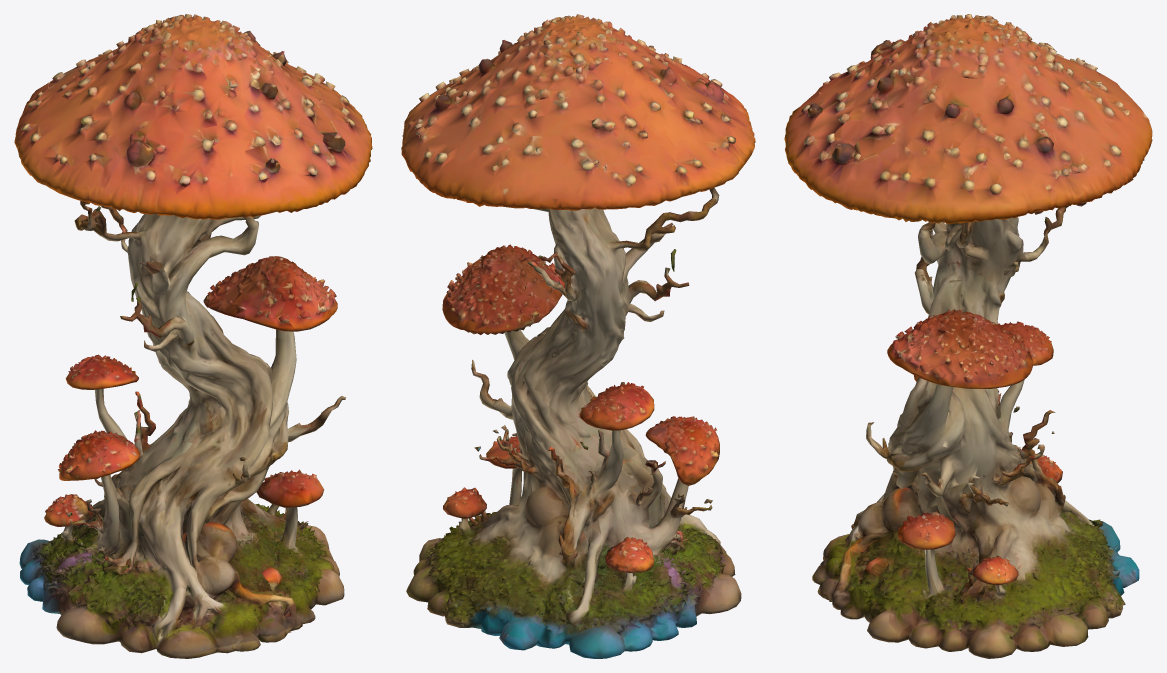
File: High_detail_fantasy.glb
3 renders of one model, left to right at view 1: azimuth 30°, elevation 25°; view 2: azimuth 150°, elevation 25°; view 3: azimuth 270°, elevation 25°, orthographic.
Visible parts, largest first — view 1: High_detail_fantasy; view 2: High_detail_fantasy; view 3: High_detail_fantasy.
Boxes of the visible parts, x1,y1,x2,y2 form: High_detail_fantasy: (14, 14, 372, 658); High_detail_fantasy: (401, 14, 755, 658); High_detail_fantasy: (784, 14, 1152, 658).
Size of the model in its own units: 1.1 by 1.9 by 1.12.
1 material, 1 textured.
